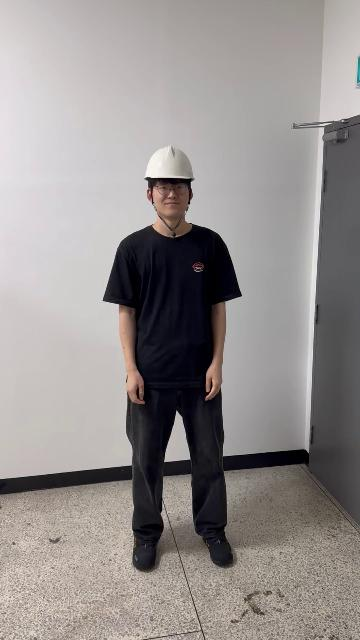helmet_worn: (145, 148, 195, 184)
shoe_worn: (199, 529, 238, 569), (129, 528, 162, 570)
vest_not_worn: (126, 226, 228, 404)
